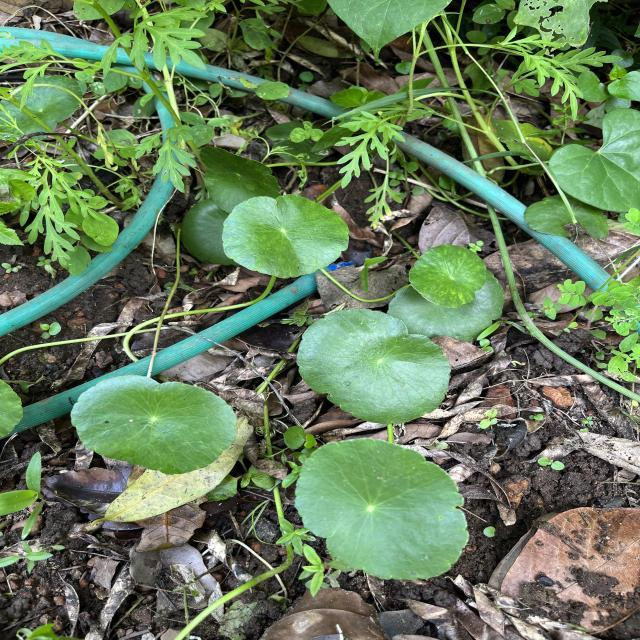Bacopa monnieri: (292, 436, 470, 582), (294, 306, 452, 426), (69, 373, 239, 476), (218, 191, 352, 281), (407, 243, 488, 310)
